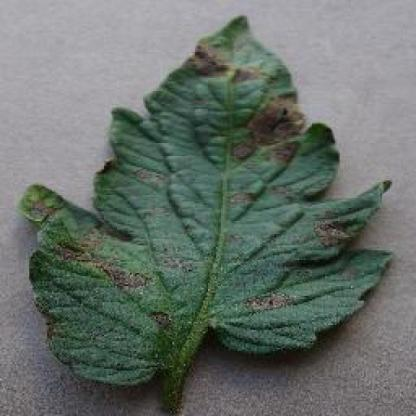Tomato_Blight: (20, 17, 392, 383)
